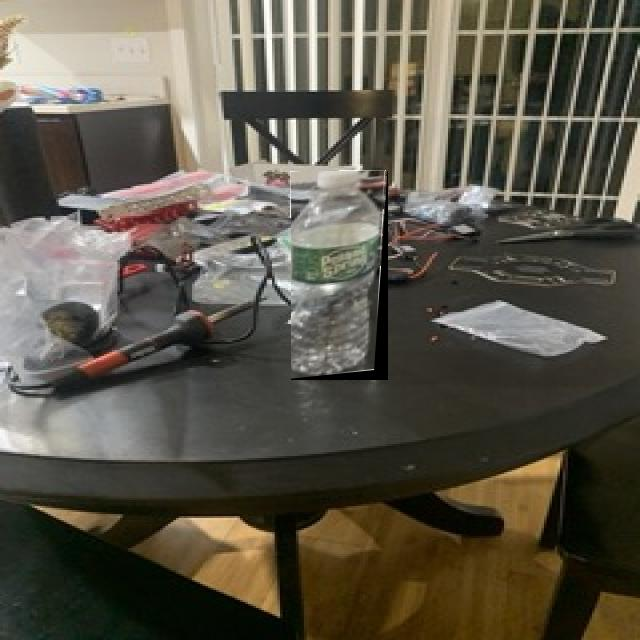water_bottle: (291, 171, 388, 380)
